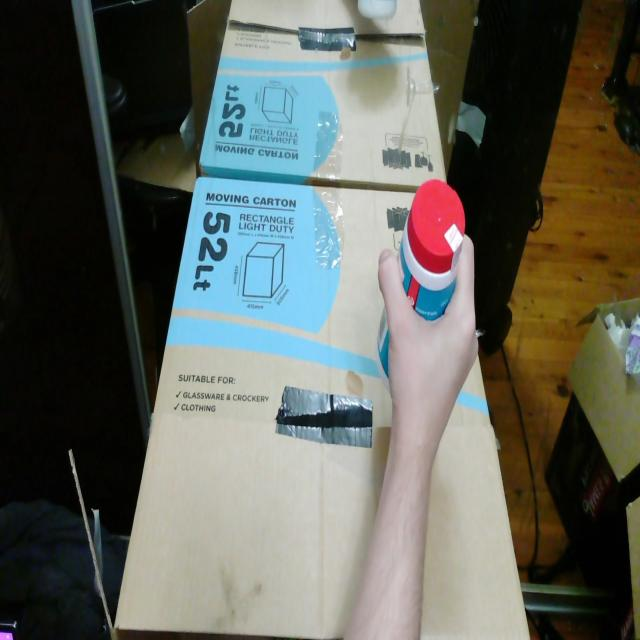woolworths_salt_bottle: (397, 180, 465, 321), (377, 306, 390, 393)
